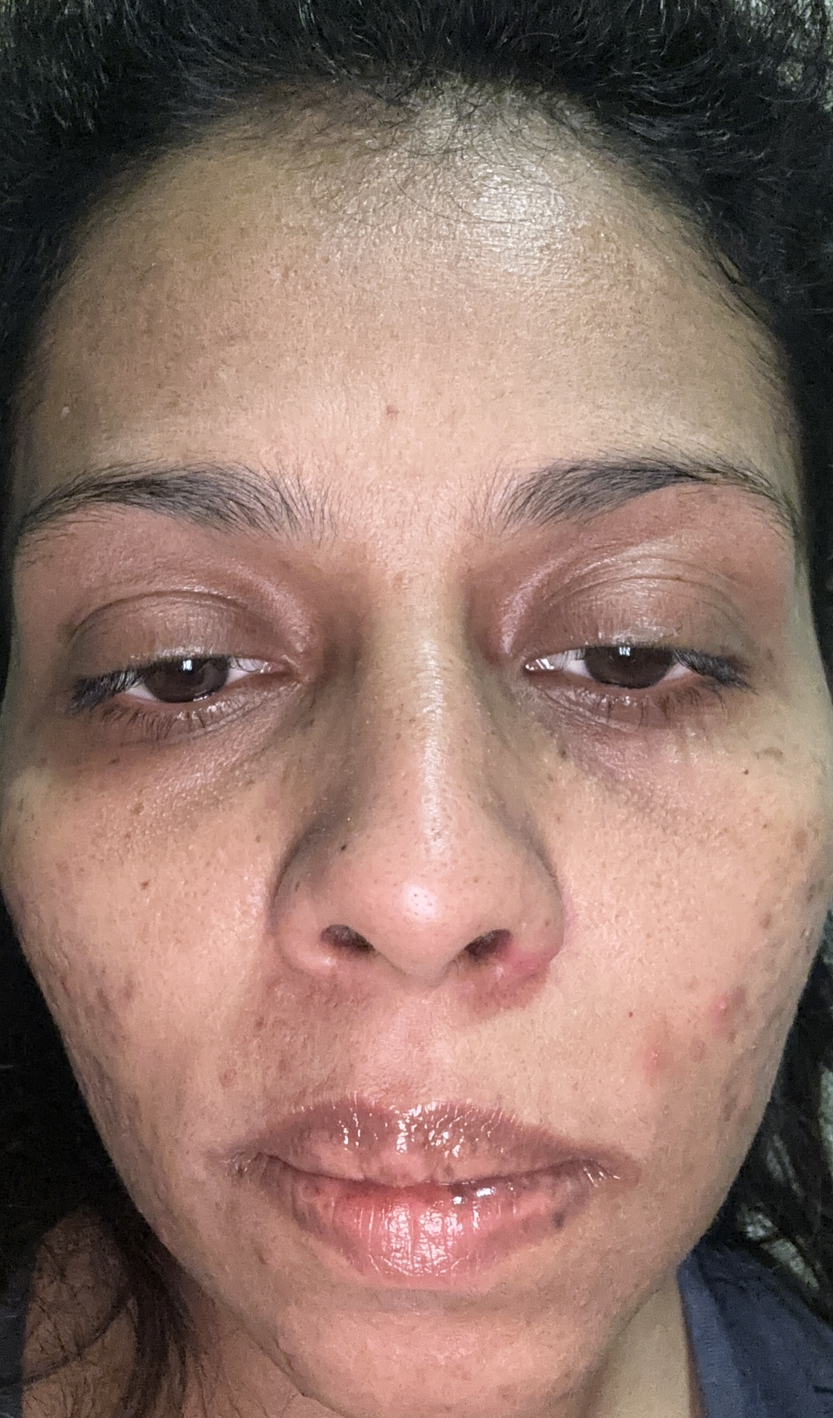papule: (114, 971, 170, 1034), (46, 941, 90, 1018)
pustule: (701, 976, 769, 1044), (619, 1027, 689, 1090)
